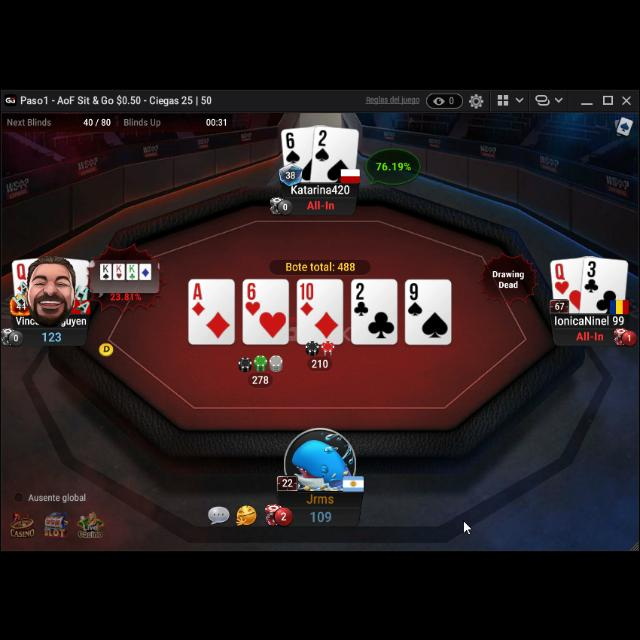2c: (352, 280, 370, 318), (354, 280, 371, 316)
2s: (314, 126, 331, 160)
3c: (584, 257, 600, 293)
6h: (244, 280, 262, 316)
6s: (284, 129, 302, 165)
8s: (406, 279, 424, 315)
Ad: (192, 280, 206, 314)
Qh: (554, 259, 570, 293)
Td: (298, 278, 316, 316)
all_in_symbol: (576, 326, 604, 339), (306, 197, 336, 209)
bet_text: (310, 357, 330, 368), (250, 372, 270, 383)
dealer: (98, 337, 116, 355)
pot_text: (285, 258, 357, 270)
stack_text: (309, 506, 333, 520), (42, 326, 62, 340), (43, 326, 63, 340)
